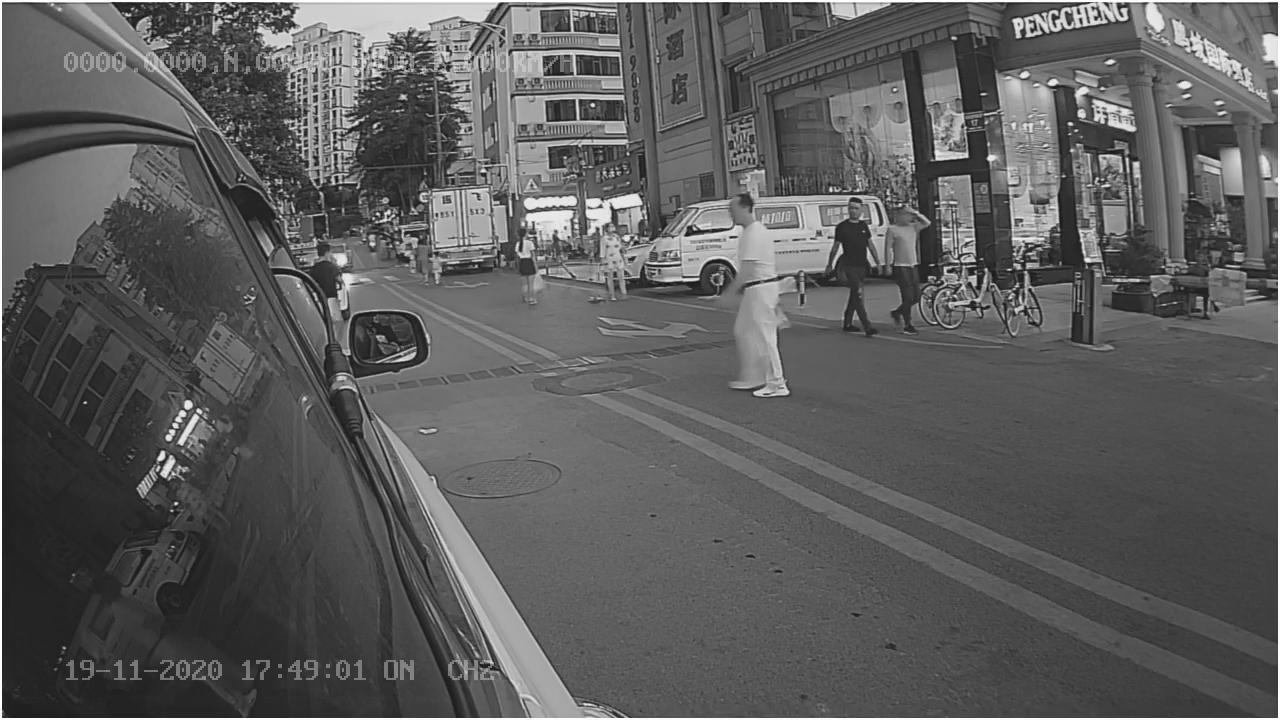person: (721, 191, 801, 403)
